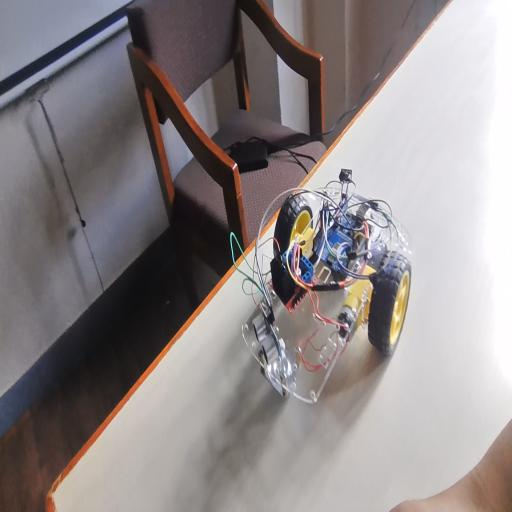car: (217, 189, 431, 400)
